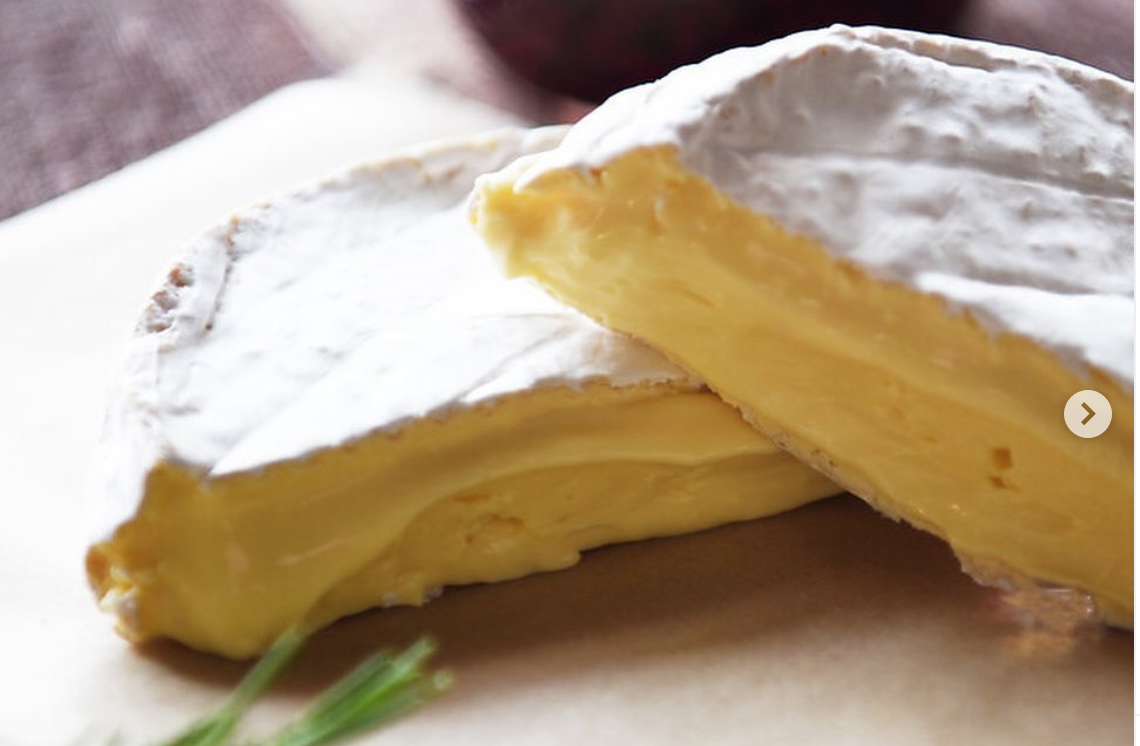camembert: (80, 119, 843, 675), (471, 23, 1140, 635)
